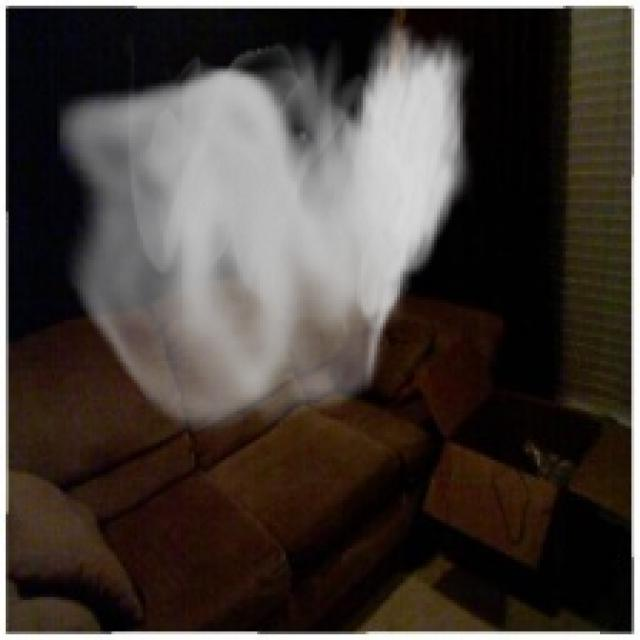smoke: (57, 17, 474, 443)
